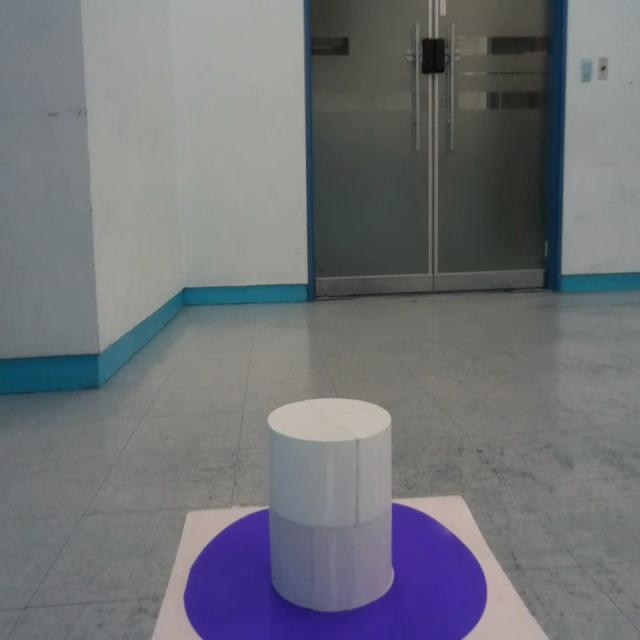cylinder: (266, 397, 394, 612)
